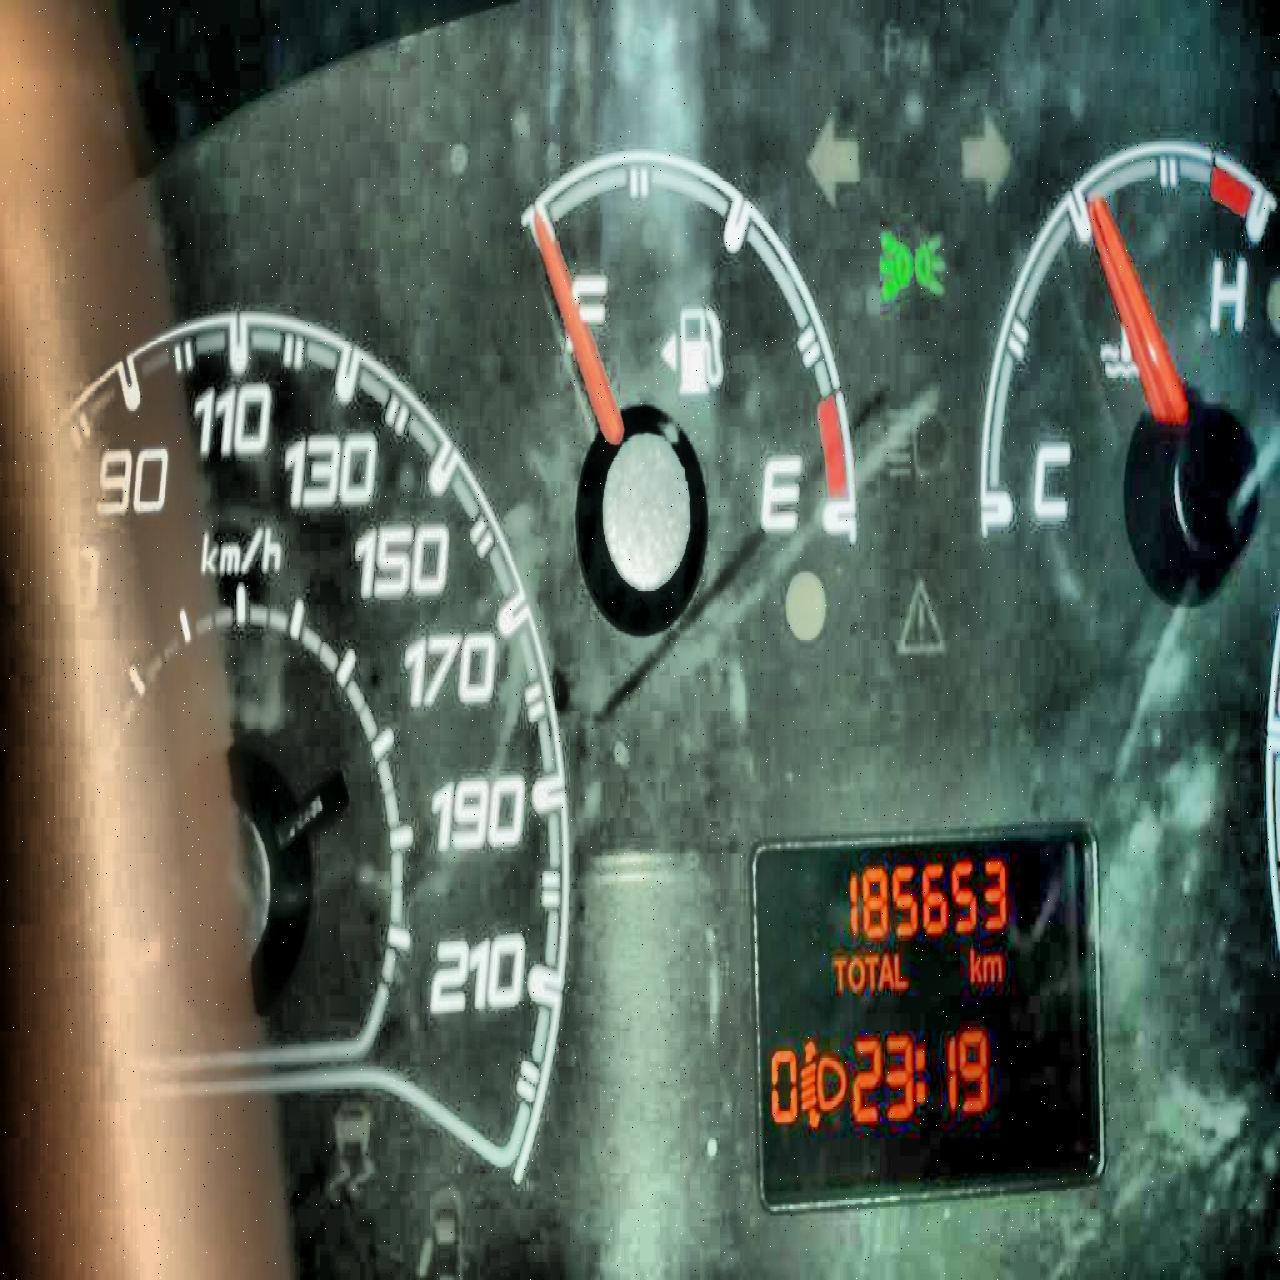0: (770, 1044, 798, 1123)
1: (946, 1032, 959, 1116), (846, 862, 859, 942)
2: (852, 1036, 881, 1121)
3: (885, 1032, 913, 1118), (983, 856, 1006, 931)
5: (952, 859, 976, 933), (892, 865, 918, 935)
6: (921, 860, 946, 931)
8: (862, 864, 887, 938)
9: (959, 1027, 987, 1111)
X: (831, 948, 846, 993), (914, 1042, 925, 1104), (846, 953, 863, 990), (893, 951, 908, 990), (878, 953, 892, 994), (864, 951, 878, 990), (982, 953, 1002, 980), (968, 945, 981, 980)
odometer: (744, 824, 1108, 1200)
